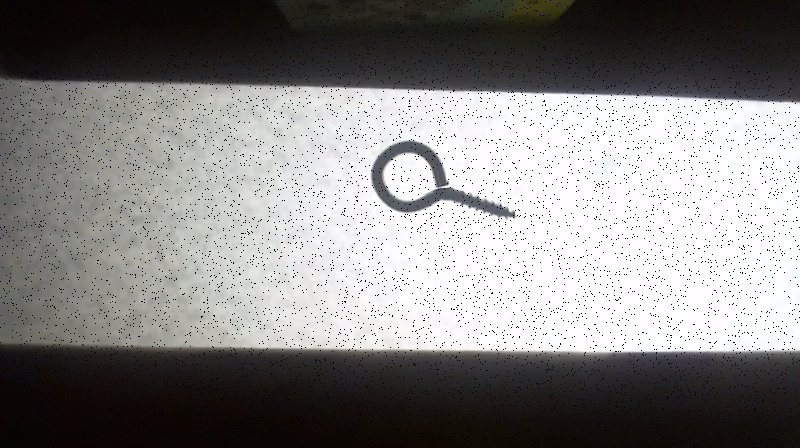O001: (366, 138, 520, 223)
